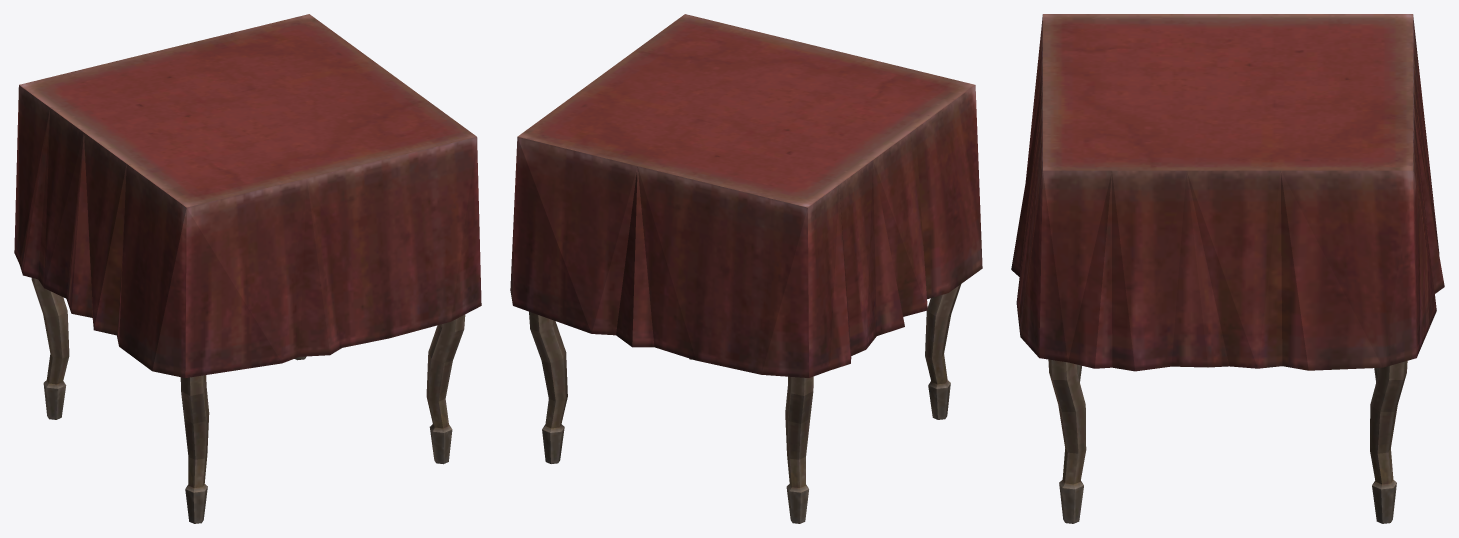
Rendered from bg_lut_lucastle_table01_sm_artree.FBX.
3 views of the same model, side by side, from view 1: azimuth 30°, elevation 25°; view 2: azimuth 150°, elevation 25°; view 3: azimuth 270°, elevation 25° (orthographic). The views are drawn at different scales.
Parts seen in each view (by area): view 1: bg_lut_lucastle_table01_sm_artree; view 2: bg_lut_lucastle_table01_sm_artree; view 3: bg_lut_lucastle_table01_sm_artree.
Boxes of the visible parts, x1,y1,x2,y2 form: bg_lut_lucastle_table01_sm_artree: (14, 14, 481, 523); bg_lut_lucastle_table01_sm_artree: (510, 14, 982, 523); bg_lut_lucastle_table01_sm_artree: (1011, 14, 1444, 523).
Bounding box in the file's own units: 104 × 95.74 × 104.
